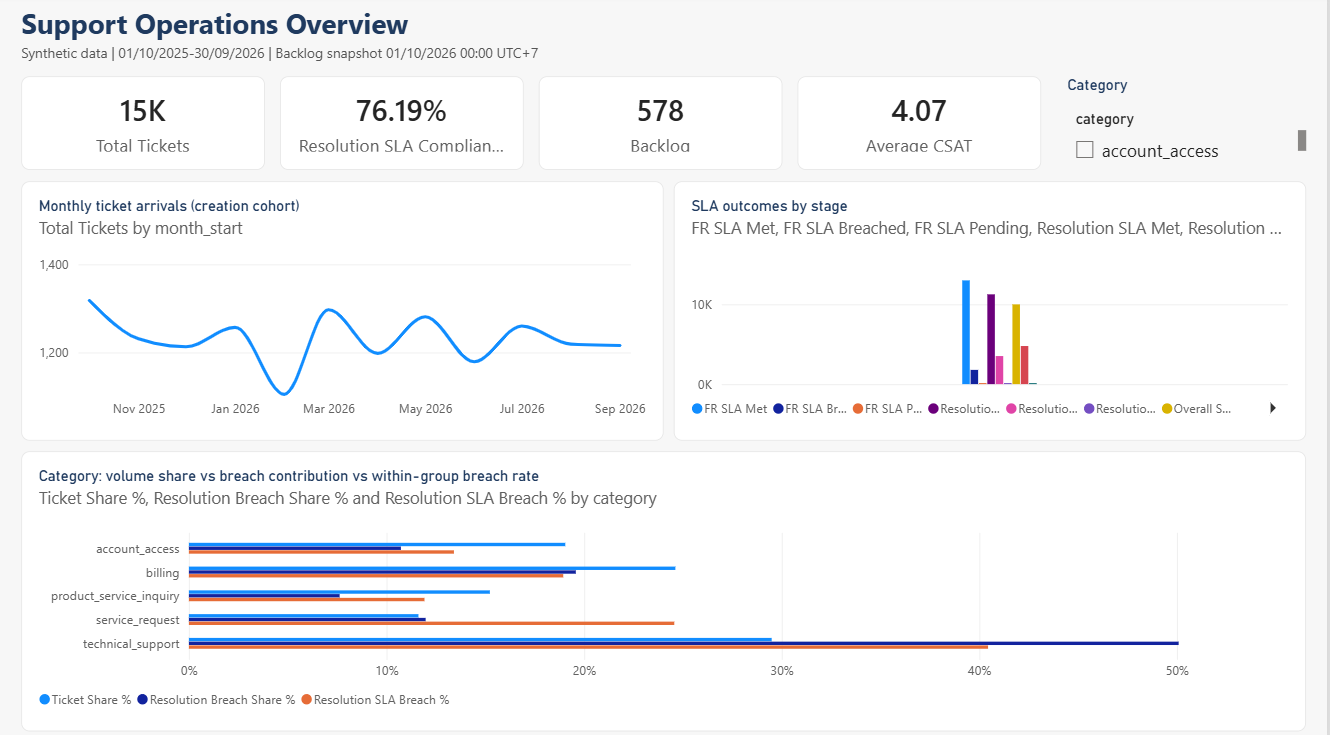

What the dashboard file says about the page in this screenshot:
{"tool":"powerbi","page":{"name":"Operations Overview","canvas":[1280,720],"ordinal":0},"visuals":[{"type":"textbox","box":[20,8,900,40],"z":1},{"type":"textbox","box":[20,46,1240,24],"z":2},{"type":"card","fields":{"Values":["fact_tickets.Total Tickets"]},"box":[20,78,235,90],"z":3},{"type":"card","fields":{"Values":["fact_tickets.Resolution SLA Compliance %"]},"box":[270,78,235,90],"z":4},{"type":"card","fields":{"Values":["fact_tickets.Backlog"]},"box":[520,78,235,90],"z":5},{"type":"card","fields":{"Values":["fact_tickets.Average CSAT"]},"box":[770,78,235,90],"z":6},{"type":"slicer","title":"Category","fields":{"Values":["dim_categories.category"]},"box":[1030,78,230,90],"z":7},{"type":"lineChart","title":"Monthly ticket arrivals (creation cohort)","fields":{"Category":["dim_date.month_start"],"Y":["fact_tickets.Total Tickets"]},"box":[20,180,620,250],"z":8},{"type":"clusteredColumnChart","title":"SLA outcomes by stage","fields":{"Y":["fact_tickets.FR SLA Met","fact_tickets.FR SLA Breached","fact_tickets.FR SLA Pending","fact_tickets.Resolution SLA Met","fact_tickets.Resolution SLA Breached","fact_tickets.Resolution SLA Pending","fact_tickets.Overall SLA Met","fact_tickets.Overall SLA Breached","fact_tickets.Overall SLA Pending"]},"box":[650,180,610,250],"z":9},{"type":"clusteredBarChart","title":"Category: volume share vs breach contribution vs within-group breach rate","fields":{"Category":["dim_categories.category"],"Y":["fact_tickets.Ticket Share %","fact_tickets.Resolution Breach Share %","fact_tickets.Resolution SLA Breach %"]},"box":[20,440,1240,270],"z":10}]}

Visuals, with their boxes in screenshot pixels (x1, y1, x2, y2), scaled from the page's 1280x720 canvas onto the 1330x735 screenshot:
textbox: bbox(21, 8, 956, 49)
textbox: bbox(21, 47, 1309, 71)
card - fact_tickets.Total Tickets: bbox(21, 80, 265, 172)
card - fact_tickets.Resolution SLA Compliance %: bbox(281, 80, 525, 172)
card - fact_tickets.Backlog: bbox(540, 80, 784, 172)
card - fact_tickets.Average CSAT: bbox(800, 80, 1044, 172)
"Category" slicer: bbox(1070, 80, 1309, 172)
"Monthly ticket arrivals (creation cohort)" lineChart: bbox(21, 184, 665, 439)
"SLA outcomes by stage" clusteredColumnChart: bbox(675, 184, 1309, 439)
"Category: volume share vs breach contribution vs within-group breach rate" clusteredBarChart: bbox(21, 449, 1309, 725)
